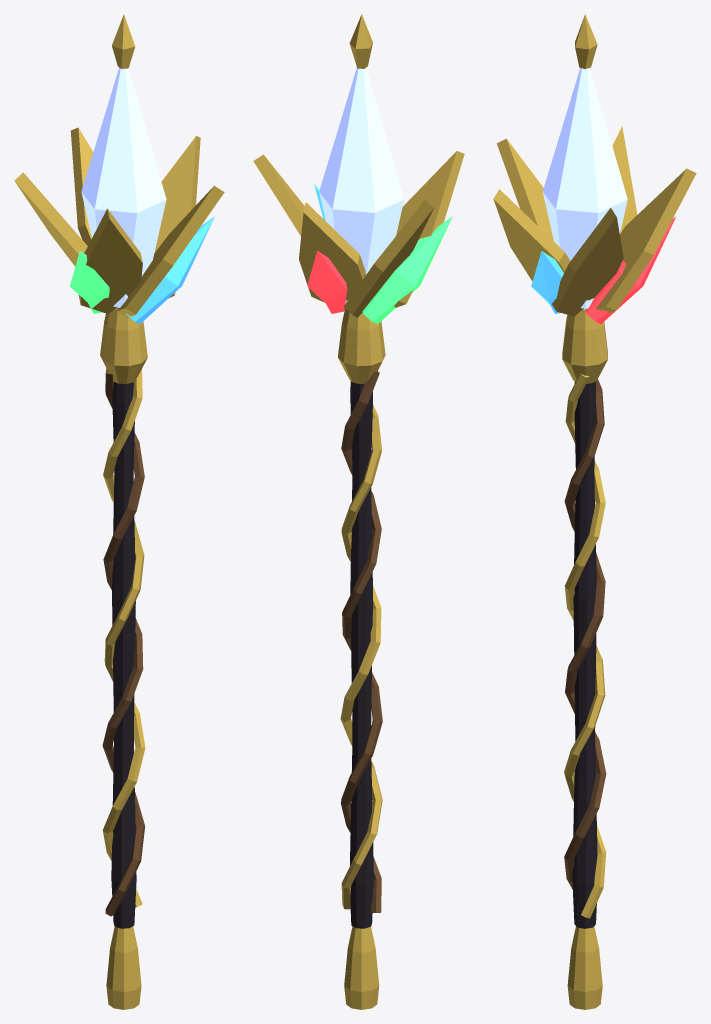
The model's file is staff_prism.glb.
3 views of the same model, side by side, from view 1: azimuth 30°, elevation 25°; view 2: azimuth 150°, elevation 25°; view 3: azimuth 270°, elevation 25° (orthographic).
Parts seen in each view (by area): view 1: Pr_Crystal, Pr_Core, Pr_Wood, Pr_Gold, Pr_Flame2, Pr_Flame3, Pr_Neck, Pr_Flame4, Pr_Foot, Pr_Flame1, Pr_Split2, Pr_Flame0 (+2 smaller); view 2: Pr_Crystal, Pr_Core, Pr_Wood, Pr_Gold, Pr_Flame0, Pr_Flame1, Pr_Split1, Pr_Neck, Pr_Foot, Pr_Flame2, Pr_Split0, Pr_Flame4 (+1 smaller); view 3: Pr_Crystal, Pr_Core, Pr_Gold, Pr_Wood, Pr_Flame0, Pr_Flame4, Pr_Flame3, Pr_Neck, Pr_Foot, Pr_Flame2, Pr_Split0, Pr_Split2 (+2 smaller).
Part boxes in pixels (left/top/right/bottom): Pr_Crystal: left=81, top=67, right=166, bottom=307; Pr_Core: left=111, top=382, right=136, bottom=928; Pr_Wood: left=102, top=368, right=145, bottom=916; Pr_Gold: left=102, top=369, right=145, bottom=907; Pr_Flame2: left=78, top=208, right=142, bottom=313; Pr_Flame3: left=117, top=185, right=224, bottom=317; Pr_Neck: left=100, top=308, right=147, bottom=383; Pr_Flame4: left=154, top=136, right=200, bottom=298; Pr_Foot: left=106, top=926, right=141, bottom=1009; Pr_Flame1: left=14, top=172, right=87, bottom=266; Pr_Split2: left=125, top=216, right=214, bottom=323; Pr_Flame0: left=70, top=127, right=93, bottom=245; Pr_Crystal: left=319, top=68, right=404, bottom=303; Pr_Core: left=350, top=381, right=373, bottom=928; Pr_Wood: left=340, top=371, right=382, bottom=912; Pr_Gold: left=340, top=404, right=382, bottom=909; Pr_Flame0: left=299, top=202, right=365, bottom=310; Pr_Flame1: left=343, top=199, right=433, bottom=317; Pr_Split1: left=362, top=216, right=452, bottom=323; Pr_Neck: left=338, top=309, right=385, bottom=383; Pr_Foot: left=344, top=926, right=379, bottom=1009; Pr_Flame2: left=394, top=151, right=464, bottom=307; Pr_Split0: left=307, top=250, right=347, bottom=313; Pr_Flame4: left=253, top=154, right=304, bottom=235; Pr_Crystal: left=542, top=68, right=627, bottom=308; Pr_Core: left=572, top=381, right=597, bottom=928; Pr_Gold: left=564, top=374, right=606, bottom=918; Pr_Wood: left=564, top=379, right=606, bottom=889; Pr_Flame0: left=585, top=168, right=696, bottom=312; Pr_Flame4: left=552, top=207, right=623, bottom=316; Pr_Flame3: left=493, top=189, right=570, bottom=281; Pr_Neck: left=562, top=309, right=607, bottom=383; Pr_Foot: left=567, top=926, right=602, bottom=1009; Pr_Flame2: left=497, top=138, right=553, bottom=241; Pr_Split0: left=585, top=217, right=675, bottom=323; Pr_Split2: left=531, top=251, right=563, bottom=313.
Size of the model in its own units: 0.5109 by 2.63 by 0.4899.
